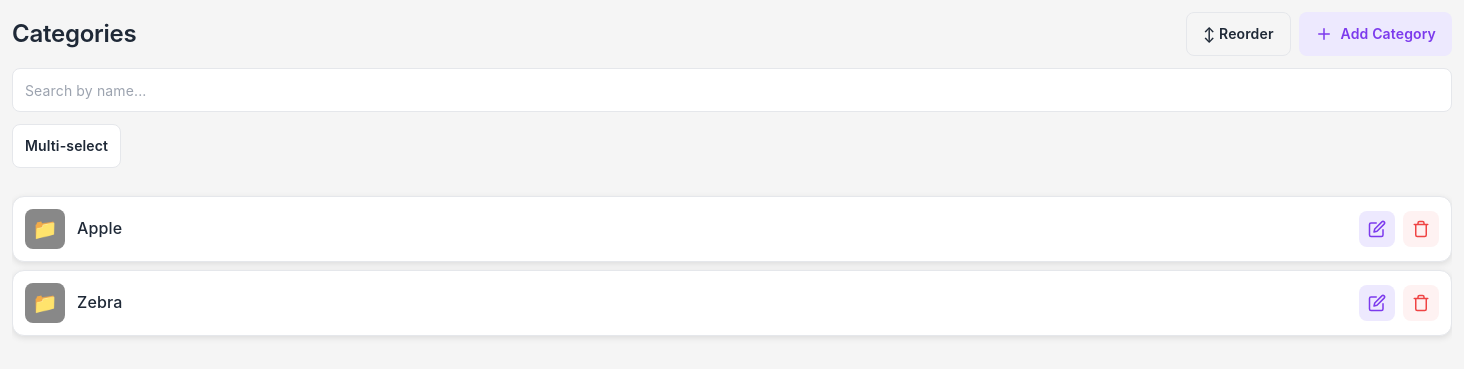
CategoryManager ordering › shows a save error so the user can retry
This screenshot has width=1464, height=369.
Click the button "↕ Reorder" at coordinates (1238, 34), box x1=1186 y1=12 x2=1291 y2=56
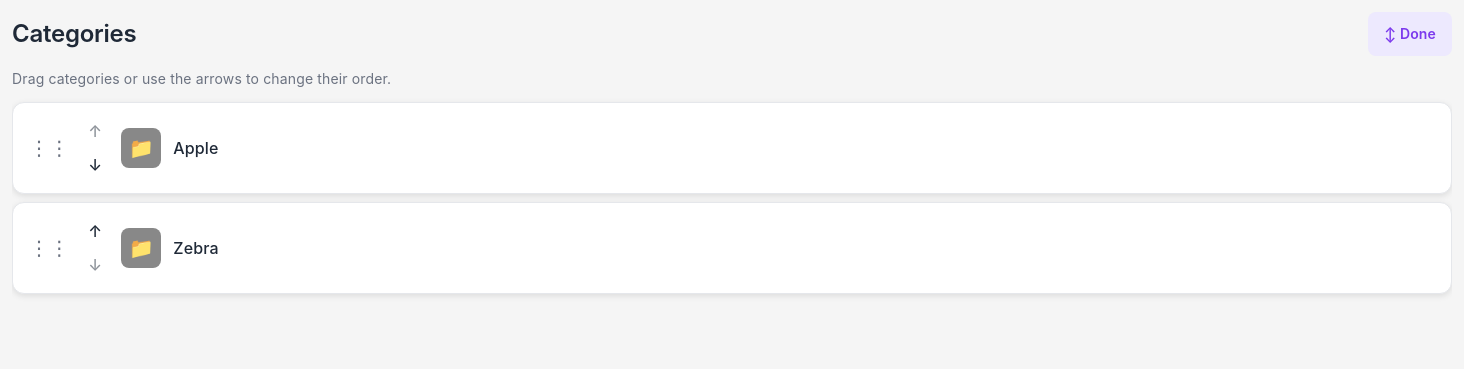
Click the button named "Move category up: Zebra" at coordinates (95, 231), box x1=79 y1=215 x2=111 y2=247
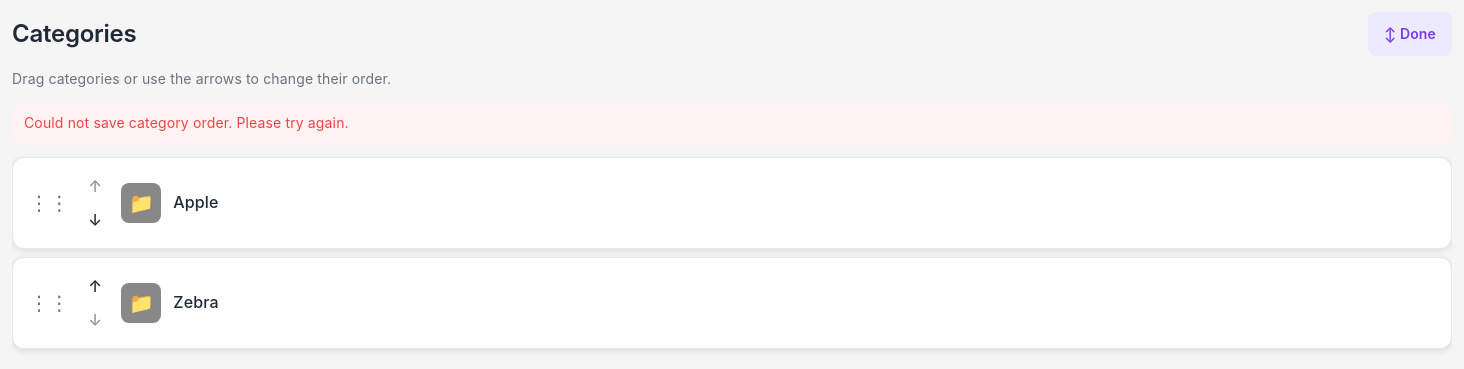
Expected: the button named "Move category up: Zebra" is enabled, x1=79 y1=270 x2=111 y2=302
Result: the message shows "Could not save category order" at x1=24 y1=114 x2=349 y2=131
